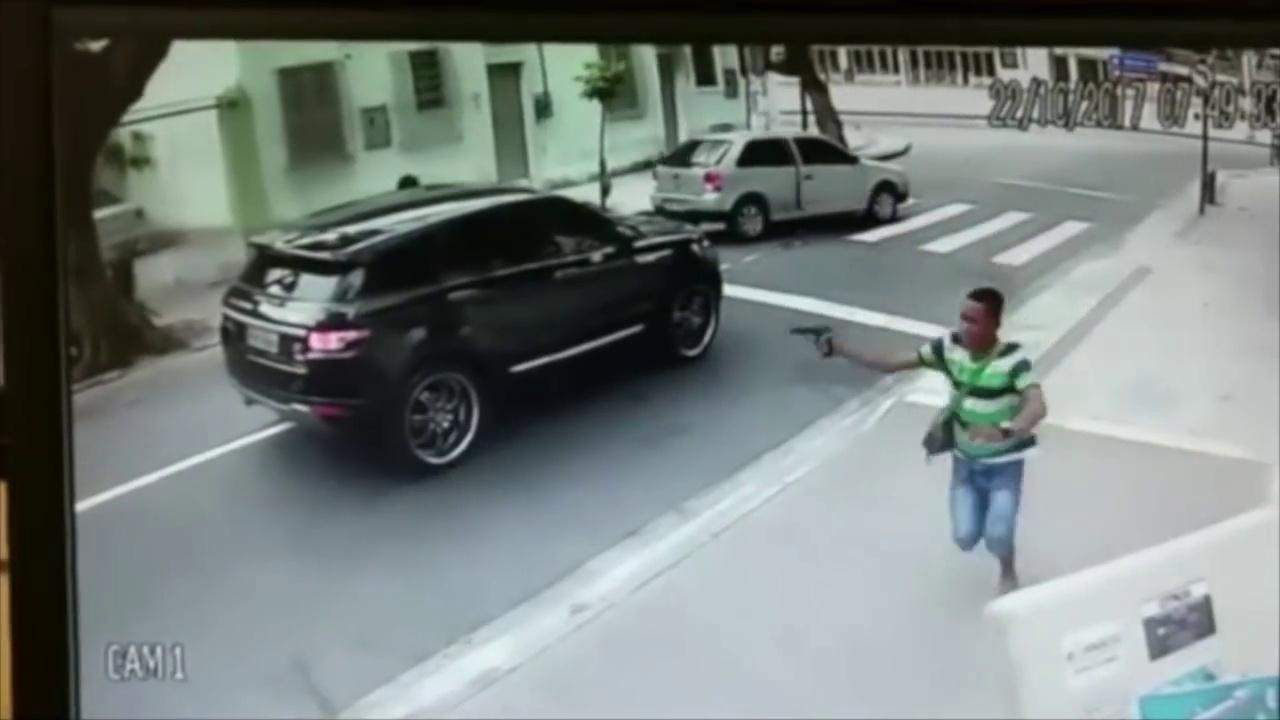Guns: (777, 315, 851, 370)
